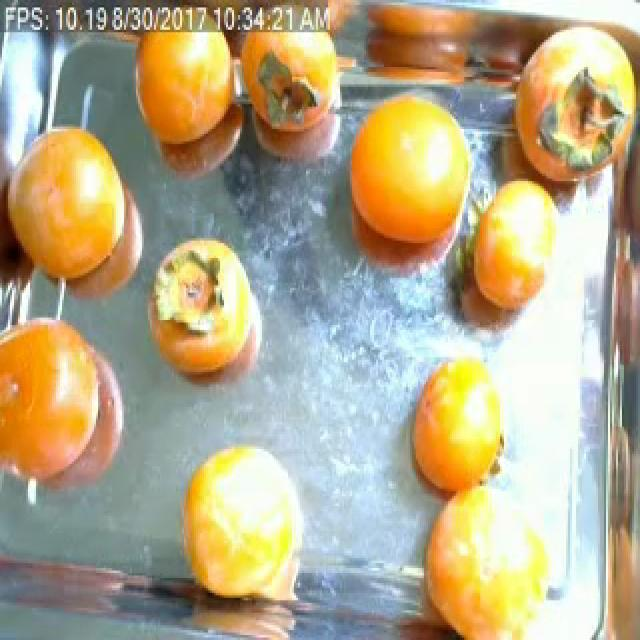Fruit: (334, 77, 482, 280), (164, 432, 320, 618), (116, 8, 264, 194), (134, 216, 274, 409), (400, 342, 518, 514)
